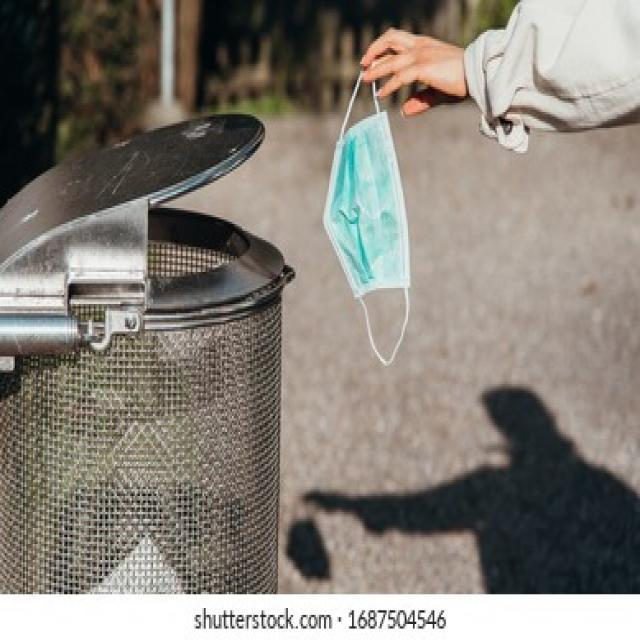face mask: (306, 59, 424, 384)
